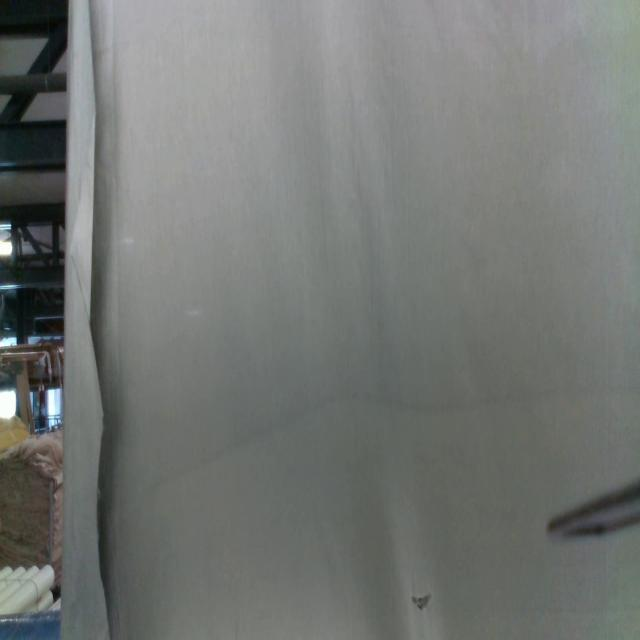hole: (411, 590, 431, 614)
